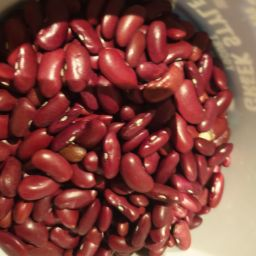Pinto Beans (kidney beans): (7, 18, 241, 256), (50, 75, 177, 205)
